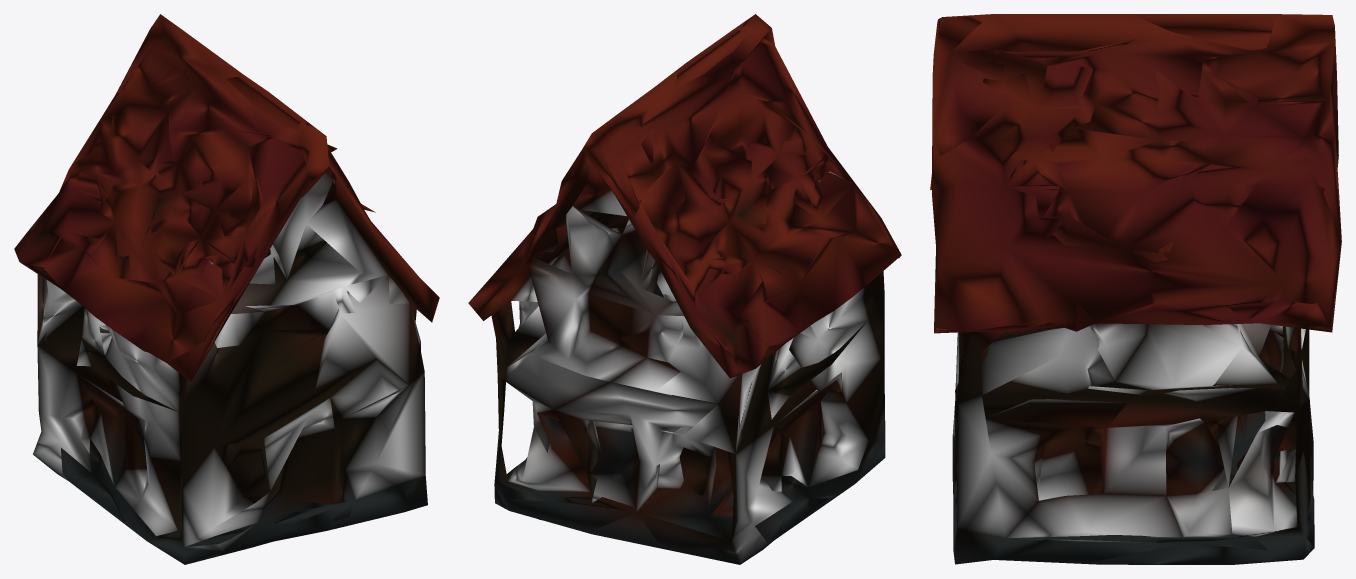
Rendered from gen3d-timber-house-lod0.glb.
3 views of the same model, side by side, from view 1: azimuth 30°, elevation 25°; view 2: azimuth 150°, elevation 25°; view 3: azimuth 270°, elevation 25° (orthographic). The views are drawn at different scales.
Visible parts, largest first — view 1: part_0; view 2: part_0; view 3: part_0.
Part boxes in pixels (x1,y1,x2,y2): part_0: (14, 14, 439, 564); part_0: (468, 14, 901, 564); part_0: (930, 14, 1341, 564).
Bounding box in the file's own units: 0.7197 × 1 × 0.766.
